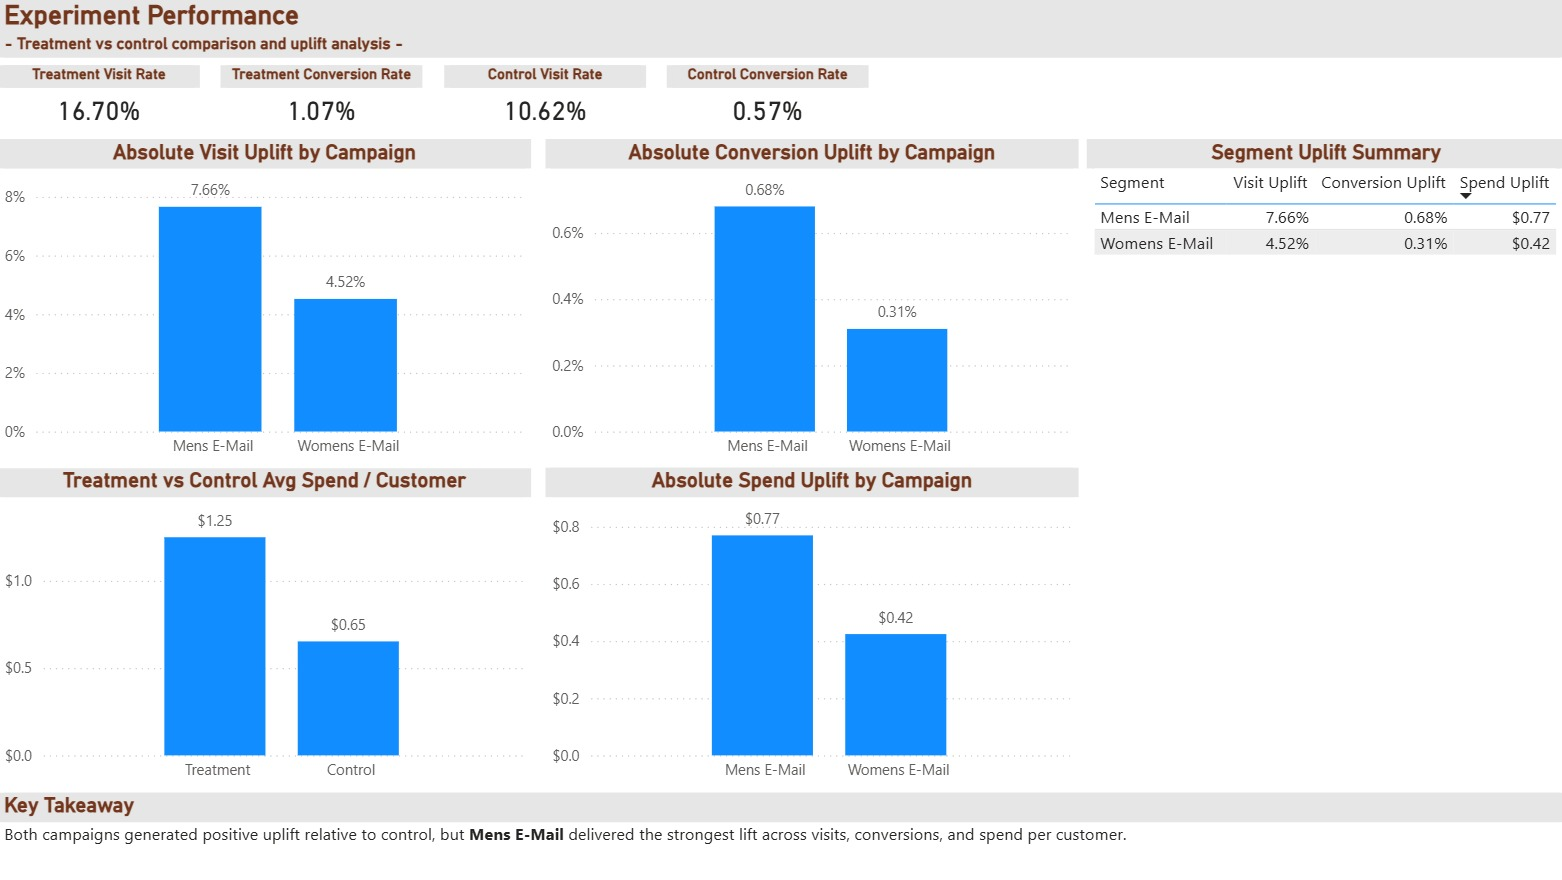

What the dashboard file says about the page in this screenshot:
{"tool":"powerbi","page":{"name":"Experiment Performance","canvas":[1280,720],"ordinal":1},"visuals":[{"type":"textbox","title":"Experiment Performance","box":[0,0,1279,29],"z":0},{"type":"textbox","title":"- Treatment vs control comparison and uplift analysis -","box":[0,29,1279,20],"z":1000},{"type":"clusteredColumnChart","title":"Absolute Conversion Uplift by Campaign","fields":{"Category":["Segment Uplift Summary.segment"],"Y":["Sum(Segment Uplift Summary.absolute_conversion_uplift)"]},"box":[447,114,435,269],"z":2000},{"type":"clusteredColumnChart","title":"Absolute Spend Uplift by Campaign","fields":{"Category":["Segment Uplift Summary.segment"],"Y":["Sum(Segment Uplift Summary.absolute_spend_uplift)"]},"box":[447,383,435,265],"z":3000},{"type":"card","title":"Treatment Visit Rate","fields":{"Values":["Max(Treatment Control Summary.visit_rate)"]},"box":[0,54,165,60],"z":4000},{"type":"card","title":"Treatment Conversion Rate","fields":{"Values":["Max(Treatment Control Summary.conversion_rate)"]},"box":[182,54,165,60],"z":5000},{"type":"card","title":"Control Visit Rate","fields":{"Values":["Max(Treatment Control Summary.visit_rate)"]},"box":[364,54,165,60],"z":6000},{"type":"card","title":"Control Conversion Rate","fields":{"Values":["Max(Treatment Control Summary.conversion_rate)"]},"box":[546,54,165,60],"z":7000},{"type":"clusteredColumnChart","title":"Treatment vs Control Avg Spend / Customer","fields":{"Category":["Treatment Control Summary.Treatment Label"],"Y":["Max(Treatment Control Summary.avg_spend_per_customer)"]},"box":[0,383,435,265],"z":8000},{"type":"tableEx","title":"Segment Uplift Summary","fields":{"Values":["Segment Uplift Summary.segment","Sum(Segment Uplift Summary.absolute_visit_uplift)","Sum(Segment Uplift Summary.absolute_conversion_uplift)","Sum(Segment Uplift Summary.absolute_spend_uplift)"]},"box":[889,114,391,120],"z":9000},{"type":"clusteredColumnChart","title":"Absolute Visit Uplift by Campaign","fields":{"Category":["Segment Uplift Summary.segment"],"Y":["Sum(Segment Uplift Summary.absolute_visit_uplift)"]},"box":[0,114,435,269],"z":10000},{"type":"textbox","title":"Key Takeaway","box":[0,648,1279,72],"z":11000}]}

Visuals, with their boxes in screenshot pixels (x1, y1, x2, y2), scaled from the page's 1280x720 canvas onto the 1562x880 screenshot:
"Experiment Performance" textbox: BBox(0, 0, 1561, 35)
"- Treatment vs control comparison and uplift analysis -" textbox: BBox(0, 35, 1561, 60)
"Absolute Conversion Uplift by Campaign" clusteredColumnChart: BBox(545, 139, 1076, 468)
"Absolute Spend Uplift by Campaign" clusteredColumnChart: BBox(545, 468, 1076, 792)
"Treatment Visit Rate" card: BBox(0, 66, 201, 139)
"Treatment Conversion Rate" card: BBox(222, 66, 423, 139)
"Control Visit Rate" card: BBox(444, 66, 646, 139)
"Control Conversion Rate" card: BBox(666, 66, 868, 139)
"Treatment vs Control Avg Spend / Customer" clusteredColumnChart: BBox(0, 468, 531, 792)
"Segment Uplift Summary" tableEx: BBox(1085, 139, 1561, 286)
"Absolute Visit Uplift by Campaign" clusteredColumnChart: BBox(0, 139, 531, 468)
"Key Takeaway" textbox: BBox(0, 792, 1561, 879)
